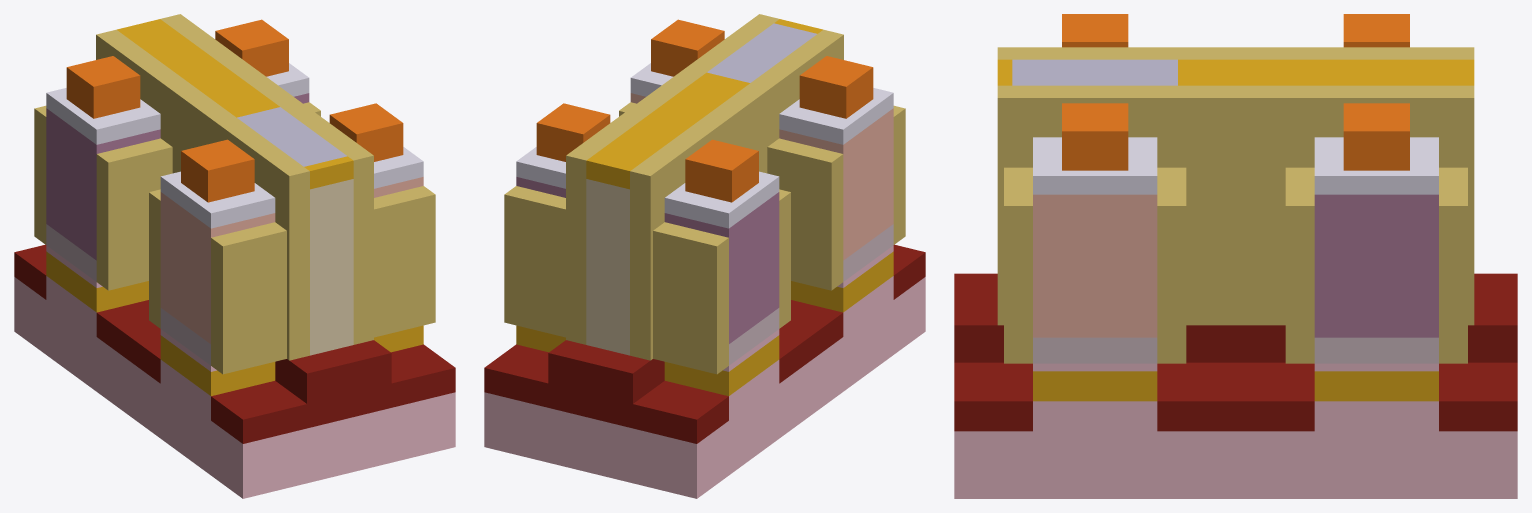
3 views of the same model, side by side, from view 1: azimuth 30°, elevation 25°; view 2: azimuth 150°, elevation 25°; view 3: azimuth 270°, elevation 25° (orthographic). The views are drawn at different scales.
Parts seen in each view (by area): view 1: substrate, n_finsp, sti, spacer_source, p_finsp, spacer_drain, gate_mo, n_epi_source, p_epi_source, gatecap, p_ni_source, n_ni_source (+14 smaller); view 2: substrate, p_finsp, sti, spacer_source, n_finsp, spacer_drain, gate_mo, p_epi_source, n_epi_source, gatecap, n_ni_source, p_ni_source (+14 smaller); view 3: spacer_drain, substrate, sti, n_epi_drain, p_epi_drain, n_finsp, p_finsp, gatecap, spacer_source, n_nisi_drain, p_nisi_drain, n_ni_drain (+12 smaller).
Part boxes in pixels (x1=…): substrate: x1=14, y1=277, x2=455, y2=498; n_finsp: x1=149, y1=186, x2=435, y2=374; sti: x1=14, y1=244, x2=455, y2=443; spacer_source: x1=96, y1=29, x2=309, y2=360; p_finsp: x1=34, y1=102, x2=320, y2=290; spacer_drain: x1=160, y1=14, x2=373, y2=344; gate_mo: x1=310, y1=179, x2=353, y2=355; n_epi_source: x1=160, y1=192, x2=275, y2=343; p_epi_source: x1=46, y1=108, x2=160, y2=260; gatecap: x1=117, y1=19, x2=353, y2=189; p_ni_source: x1=66, y1=56, x2=140, y2=118; n_ni_source: x1=181, y1=139, x2=254, y2=202; substrate: x1=484, y1=277, x2=925, y2=498; p_finsp: x1=504, y1=186, x2=790, y2=374; sti: x1=484, y1=244, x2=925, y2=443; spacer_source: x1=630, y1=29, x2=843, y2=360; n_finsp: x1=619, y1=102, x2=905, y2=290; spacer_drain: x1=566, y1=14, x2=779, y2=344; gate_mo: x1=586, y1=179, x2=629, y2=355; p_epi_source: x1=664, y1=192, x2=779, y2=343; n_epi_source: x1=779, y1=108, x2=893, y2=260; gatecap: x1=586, y1=19, x2=822, y2=189; n_ni_source: x1=799, y1=56, x2=873, y2=118; p_ni_source: x1=685, y1=139, x2=758, y2=202; spacer_drain: x1=997, y1=85, x2=1474, y2=325; substrate: x1=954, y1=431, x2=1517, y2=498; sti: x1=954, y1=273, x2=1517, y2=431; n_epi_drain: x1=1033, y1=194, x2=1157, y2=337; p_epi_drain: x1=1314, y1=194, x2=1438, y2=337; n_finsp: x1=1004, y1=167, x2=1186, y2=363; p_finsp: x1=1285, y1=167, x2=1467, y2=363; gatecap: x1=997, y1=59, x2=1474, y2=85; spacer_source: x1=997, y1=47, x2=1474, y2=59; n_nisi_drain: x1=1033, y1=137, x2=1157, y2=194; p_nisi_drain: x1=1314, y1=137, x2=1438, y2=194; n_ni_drain: x1=1062, y1=103, x2=1128, y2=170.
Bounding box in the file's own units: 73 × 96.5 × 136.
